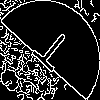T: (25, 25, 75, 80)
